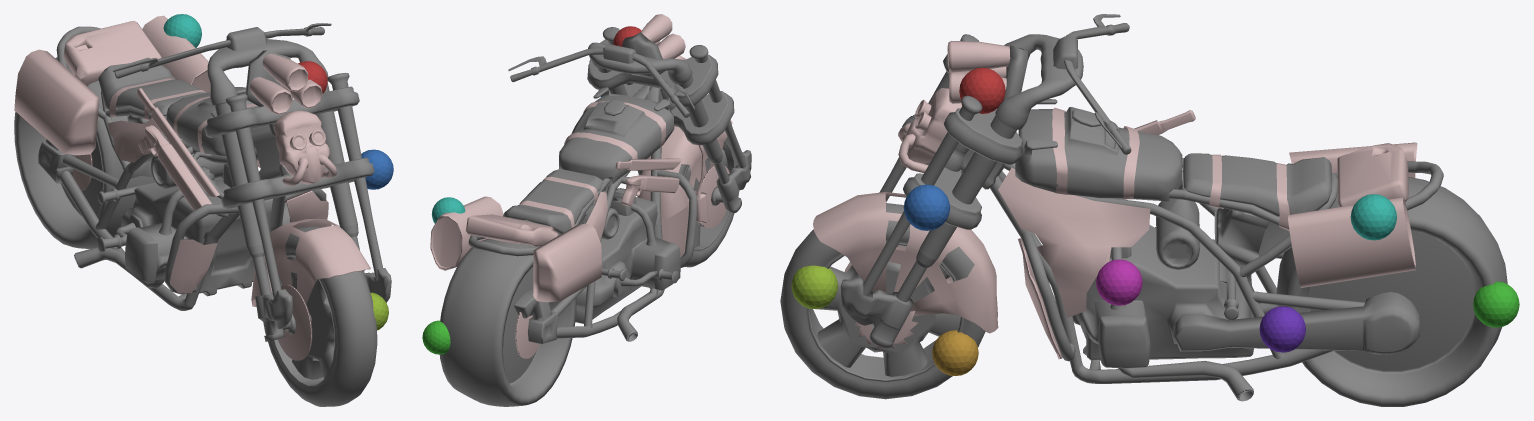
The model's file is canonicalized_front_view_anchors.glb.
3 renders of one model, left to right at view 1: azimuth 30°, elevation 25°; view 2: azimuth 150°, elevation 25°; view 3: azimuth 270°, elevation 25°, orthographic. The views are drawn at different scales.
Visible parts, largest first — view 1: polySurface250, polySurface193, anchor_02_rgb_014_051_142, anchor_05_rgb_014_142_120, anchor_01_rgb_142_014_014, anchor_03_rgb_089_142_014; view 2: polySurface250, polySurface193, anchor_08_rgb_019_142_014, anchor_05_rgb_014_142_120, anchor_01_rgb_142_014_014; view 3: polySurface250, polySurface193, anchor_07_rgb_046_014_142, anchor_02_rgb_014_051_142, anchor_04_rgb_142_014_126, anchor_05_rgb_014_142_120, anchor_08_rgb_019_142_014, anchor_06_rgb_142_083_014, anchor_03_rgb_089_142_014, anchor_01_rgb_142_014_014.
Boxes of the visible parts, box(x1,y1,x2,y2) form: polySurface250: box(14, 23, 391, 406); polySurface193: box(14, 15, 370, 360); anchor_02_rgb_014_051_142: box(361, 149, 393, 189); anchor_05_rgb_014_142_120: box(163, 14, 201, 47); anchor_01_rgb_142_014_014: box(298, 61, 327, 93); anchor_03_rgb_089_142_014: box(370, 292, 388, 330); polySurface250: box(439, 27, 751, 406); polySurface193: box(430, 14, 732, 358); anchor_08_rgb_019_142_014: box(422, 320, 450, 354); anchor_05_rgb_014_142_120: box(431, 197, 465, 223); anchor_01_rgb_142_014_014: box(613, 26, 641, 46); polySurface250: box(780, 14, 1507, 406); polySurface193: box(813, 41, 1417, 359); anchor_07_rgb_046_014_142: box(1259, 306, 1305, 352); anchor_02_rgb_014_051_142: box(903, 184, 950, 230); anchor_04_rgb_142_014_126: box(1096, 259, 1142, 305); anchor_05_rgb_014_142_120: box(1350, 194, 1396, 240); anchor_08_rgb_019_142_014: box(1473, 281, 1519, 327); anchor_06_rgb_142_083_014: box(932, 330, 978, 375); anchor_03_rgb_089_142_014: box(791, 265, 837, 308); anchor_01_rgb_142_014_014: box(959, 67, 1005, 113).
Bounding box in the file's own units: 0.7772 × 1.05 × 1.97.
